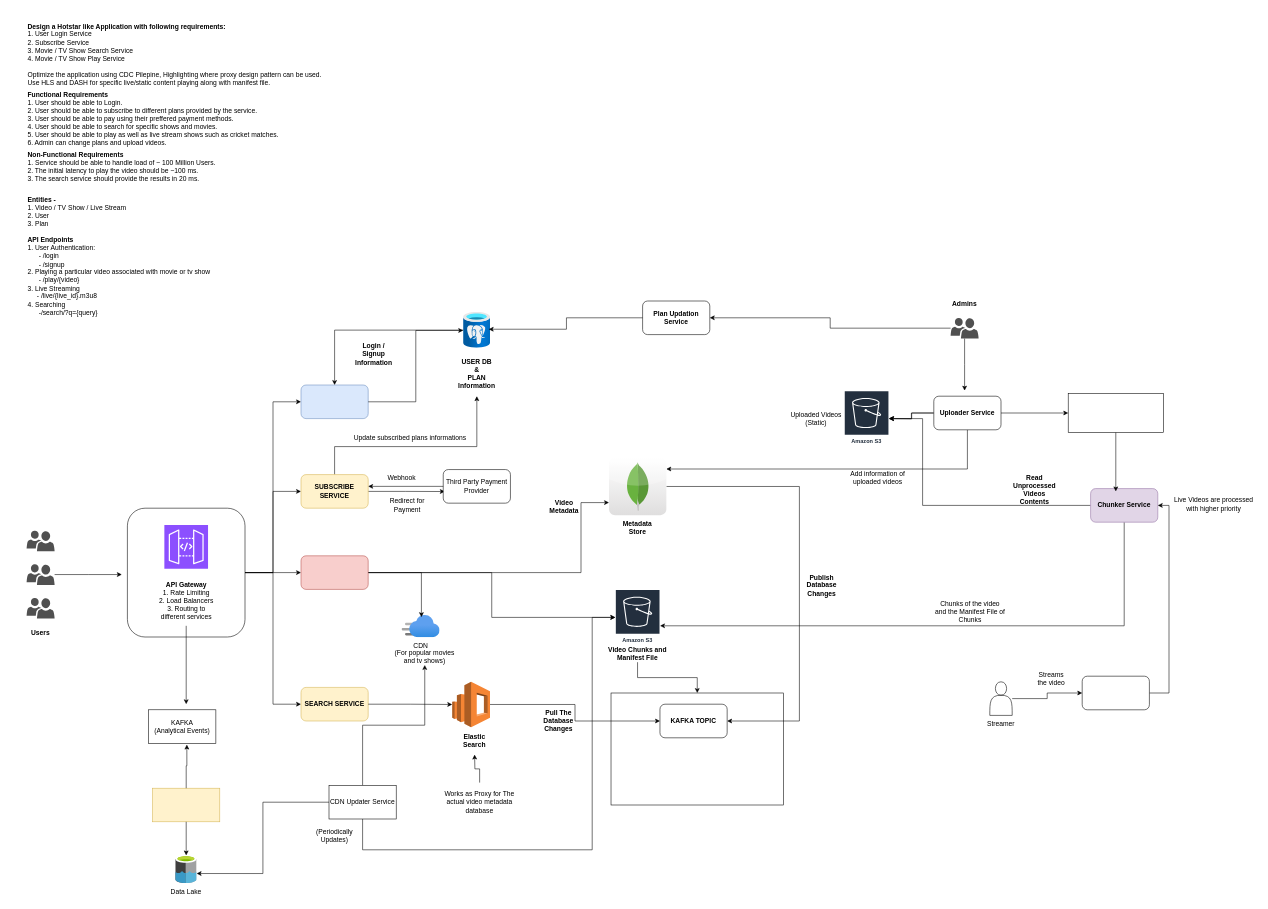
Some shapes in this 1268 by 909 pixel diagram are drawn without their labels. The shapes that lost their labels are listed below. From the top down, each one's box as (x1, y1, x2, y2) in pixels, then its label:
(300, 384, 368, 419): USER SERVICE
(1068, 393, 1163, 433): KAFKA TOPIC (Topic for unprocessed Videos
(300, 555, 368, 589): PLAY SERVICE
(1082, 676, 1149, 710): Streaming Service
(610, 692, 783, 805): Change Data Capture Pipeline
(152, 788, 220, 822): Analytics Service
